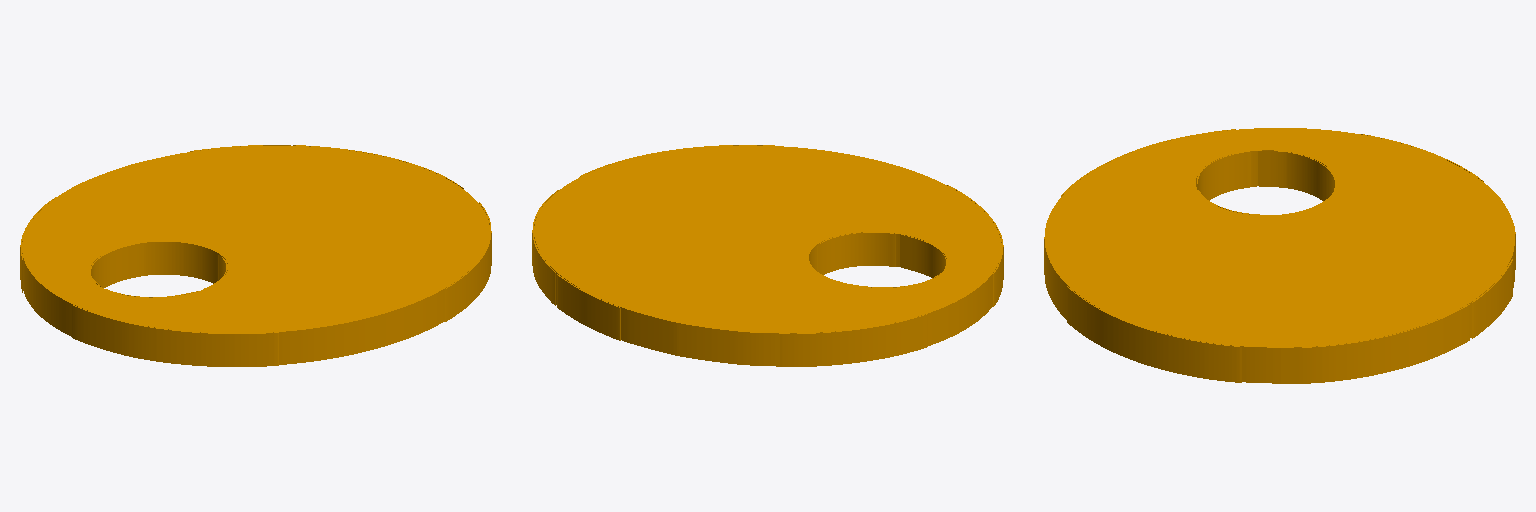
robot.urdf — i10.urdf:
<?xml version="1.0" encoding="utf-8"?>
<robot name="i10.urdf">
  <link name="baseLink">
    <contact>
      <lateral_friction value="0.5"/>
      <rolling_friction value="0.001"/>
      <spinning_friction value="0.001"/>
    </contact>
    <inertial>
      <origin rpy="0 0 0" xyz="0 0 0"/>
      <mass value="0.07"/>
      <inertia ixx="1" ixy="0" ixz="0" iyy="1" iyz="0" izz="1"/>
    </inertial>
    <visual>
      <origin rpy="0 0 0" xyz="0 0 0"/>
      <geometry>
        <mesh filename="i10.obj" scale="0.2 0.2 0.1"/> <!-- Scale x and y by 3.5, z by 1.0 -->
      </geometry>
    </visual>
    <collision>
      <origin rpy="0 0 0" xyz="0 0 0"/>
      <geometry>
        <mesh filename="i10.obj" scale="0.2 0.2 0.1"/> <!-- Scale x and y by 3.5, z by 1.0 -->
      </geometry>
    </collision>
  </link>
</robot>

--- Render facts (derived) ---
3 views of the same robot in one strip: view 1: azimuth 30°, elevation 25°; view 2: azimuth 150°, elevation 25°; view 3: azimuth 270°, elevation 25° (orthographic).
Robot: i10.urdf — 1 links, 0 joints (none); root link baseLink; default pose: all joints at 0.
Links seen in each view (by area): view 1: baseLink; view 2: baseLink; view 3: baseLink.
Link boxes in pixels (x1,y1,x2,y2): baseLink: (20, 145, 491, 366); baseLink: (532, 145, 1003, 366); baseLink: (1044, 128, 1515, 383).
Size in the robot's own frame: 0.5183 by 0.468 by 0.0394 metres.
1 mesh visuals loaded from 1 distinct referenced files (1 OBJ).